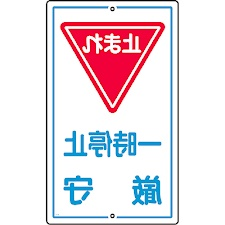Regulatory_sign_triangle: (59, 14, 169, 124)
